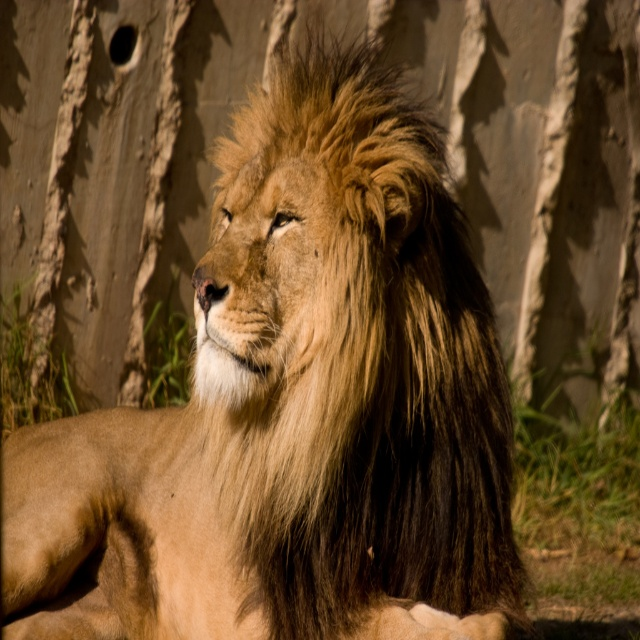Lion: (0, 0, 529, 640)
